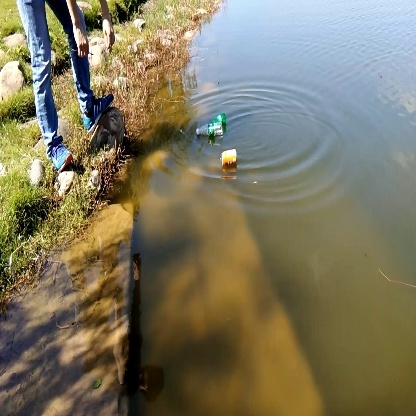bottle: (216, 142, 243, 170)
